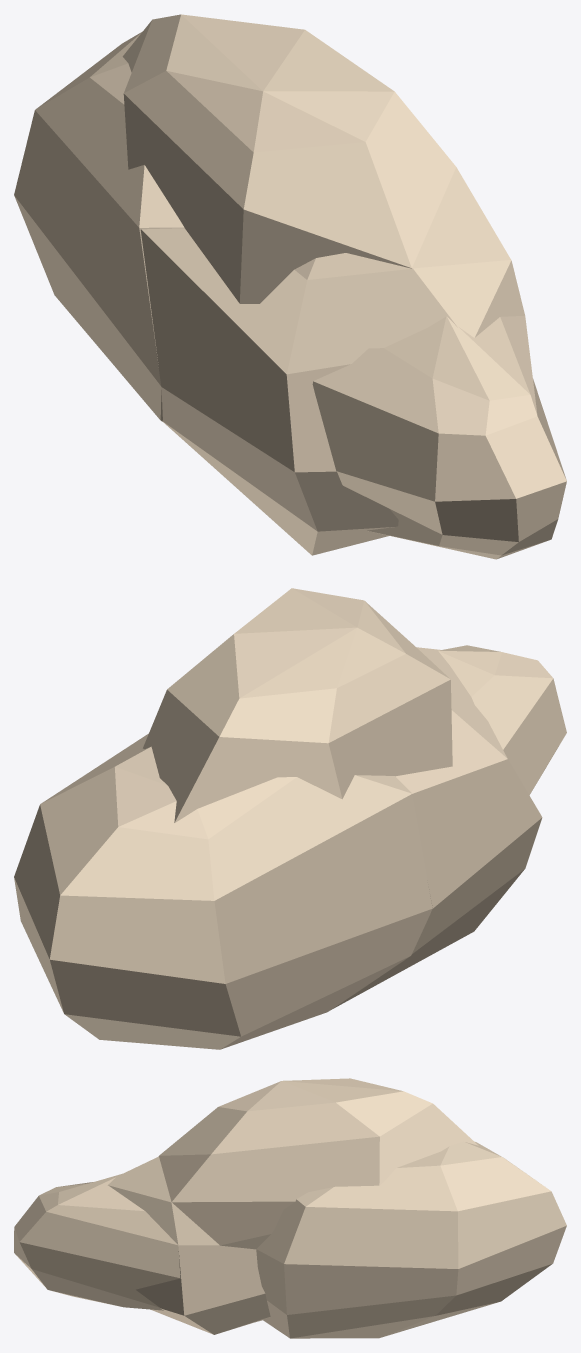
Rendered from Cloud5.fbx.
3 renders of one model, top to bottom at view 1: azimuth 30°, elevation 25°; view 2: azimuth 150°, elevation 25°; view 3: azimuth 270°, elevation 25°, orthographic. The views are drawn at different scales.
Parts seen in each view (by area): view 1: Cloud5; view 2: Cloud5; view 3: Cloud5.
Boxes of the visible parts, x1,y1,x2,y2 form: Cloud5: (14,14,566,559); Cloud5: (14,588,566,1049); Cloud5: (14,1078,566,1338).
Bounding box in the file's own units: 157 × 197 × 411.
